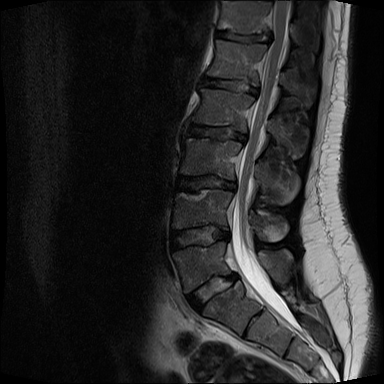Lumbar Disc Bulge (LDB): (178, 264, 247, 318), (165, 219, 234, 254), (181, 118, 253, 150), (168, 171, 244, 199), (196, 72, 263, 101), (208, 26, 277, 46)
Spinal Stenosis (SS): (234, 126, 255, 149), (224, 266, 244, 290), (217, 222, 236, 246), (225, 173, 242, 197), (248, 83, 265, 104), (263, 28, 279, 46)
